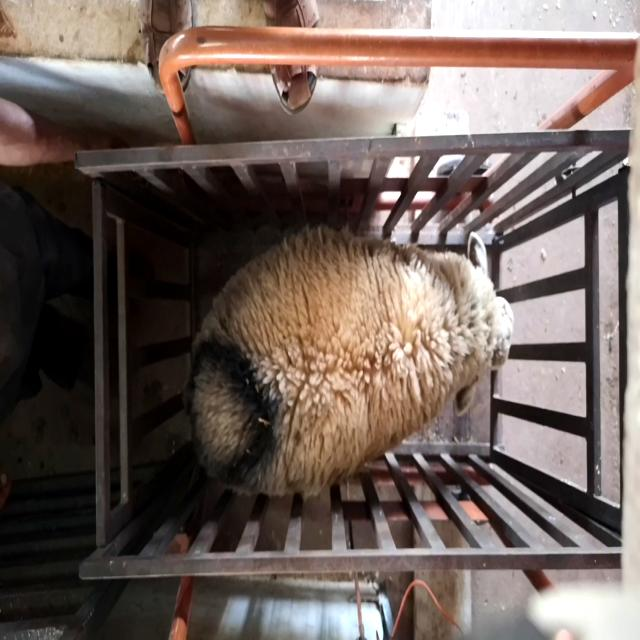sheep: (182, 225, 515, 498)
